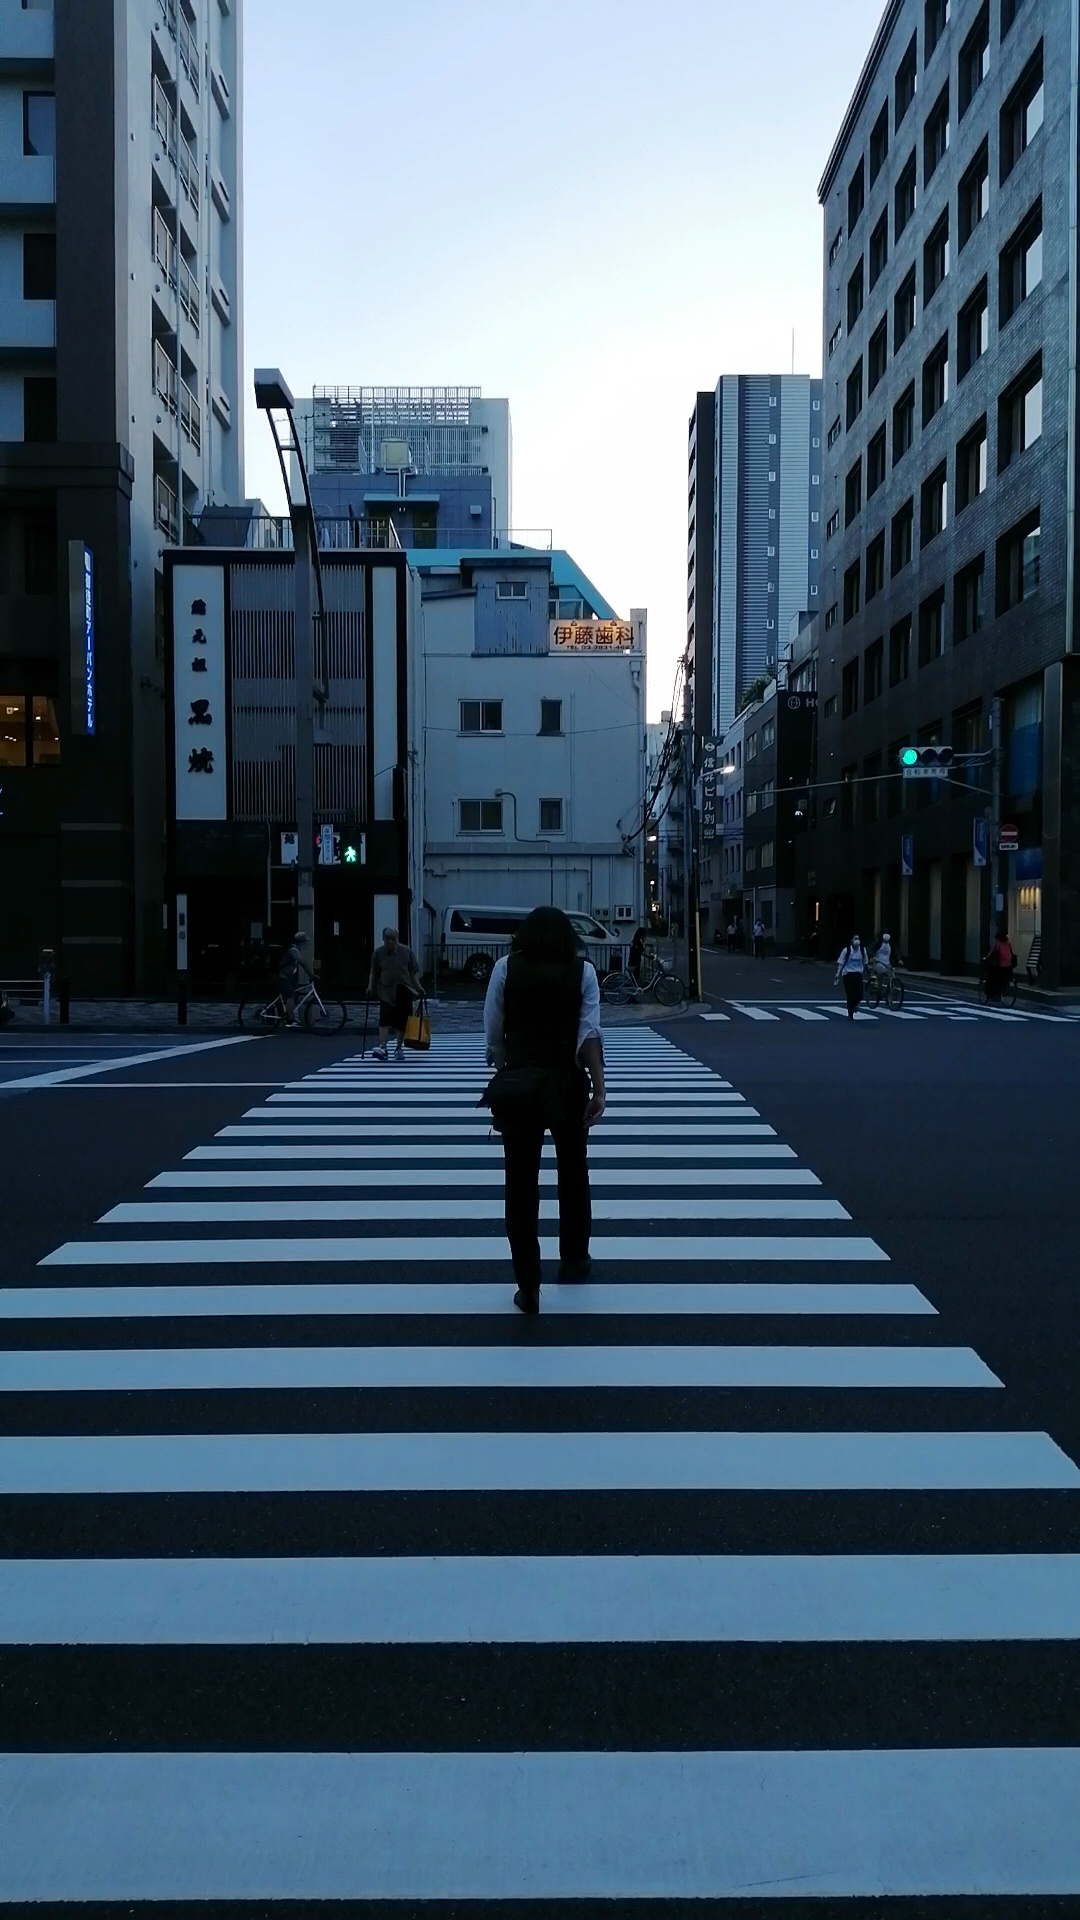green: (339, 822, 361, 866)
